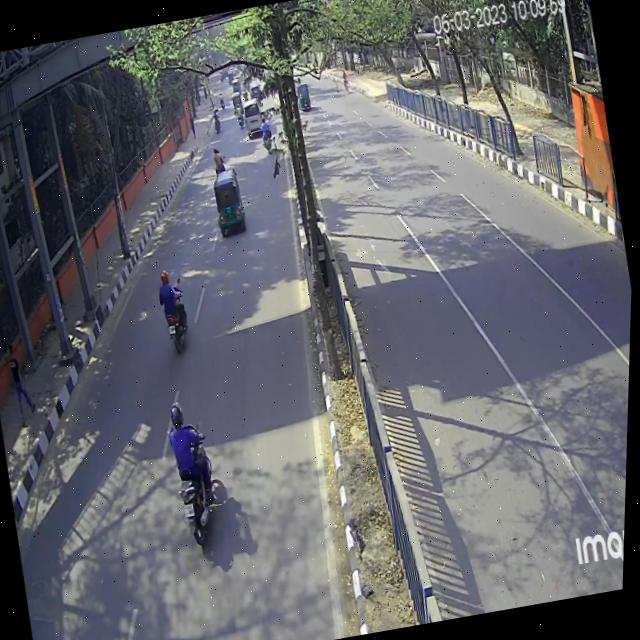cng: (204, 156, 253, 241), (294, 77, 315, 121)
